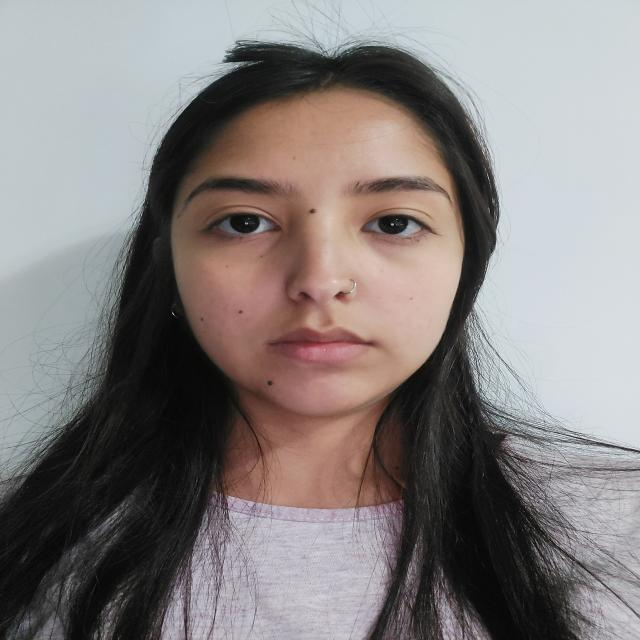Acne: (235, 309, 246, 317), (288, 154, 302, 160), (409, 297, 417, 302)
